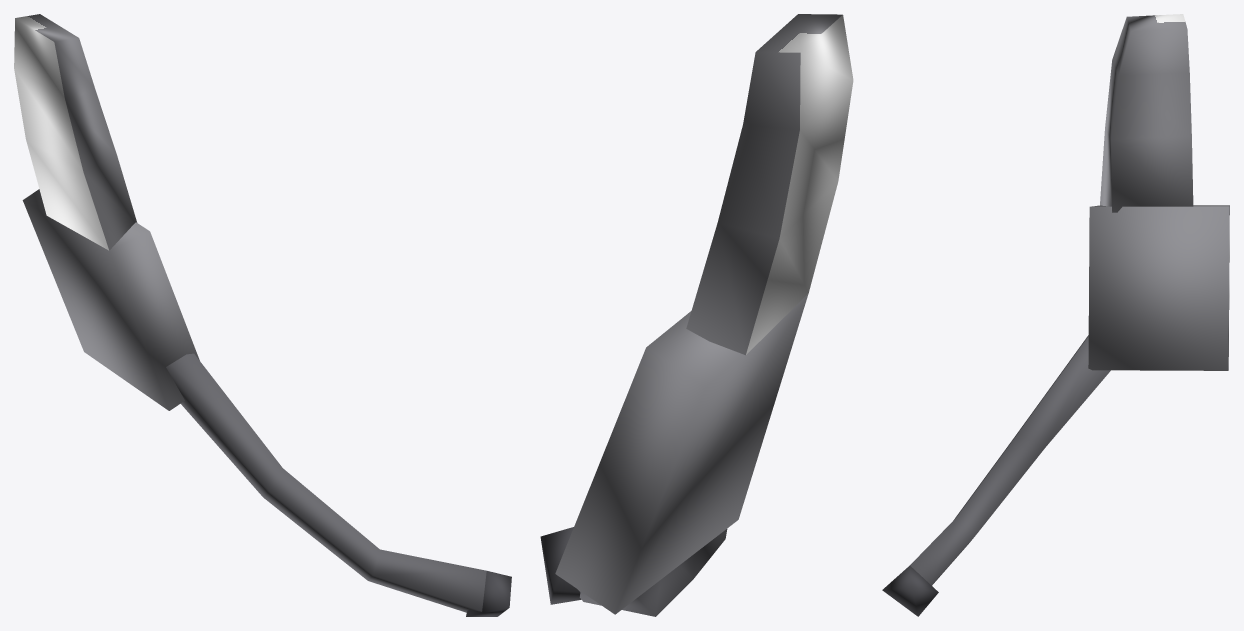
Rendered from integratorHeadset.glb.
3 renders of one model, left to right at view 1: azimuth 30°, elevation 25°; view 2: azimuth 150°, elevation 25°; view 3: azimuth 270°, elevation 25°, orthographic. The views are drawn at different scales.
Visible parts, largest first — view 1: IntegratorHeadset; view 2: IntegratorHeadset; view 3: IntegratorHeadset.
Part boxes in pixels (box(x1,y1,x2,y2)): IntegratorHeadset: box(14, 14, 511, 616); IntegratorHeadset: box(540, 14, 853, 616); IntegratorHeadset: box(882, 14, 1229, 616).
Bounding box in the file's own units: 3.65 × 5.85 × 3.92.
Materials: 1 (1 with a texture image).
